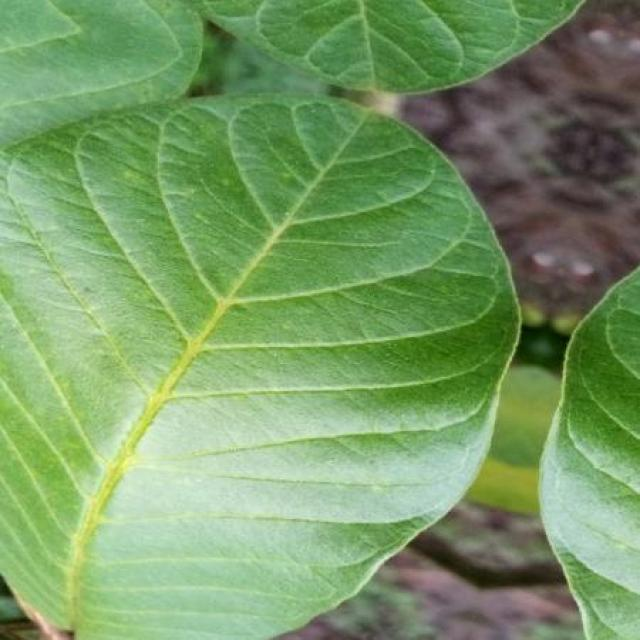Disease Free: (0, 0, 577, 640), (541, 269, 640, 639)
